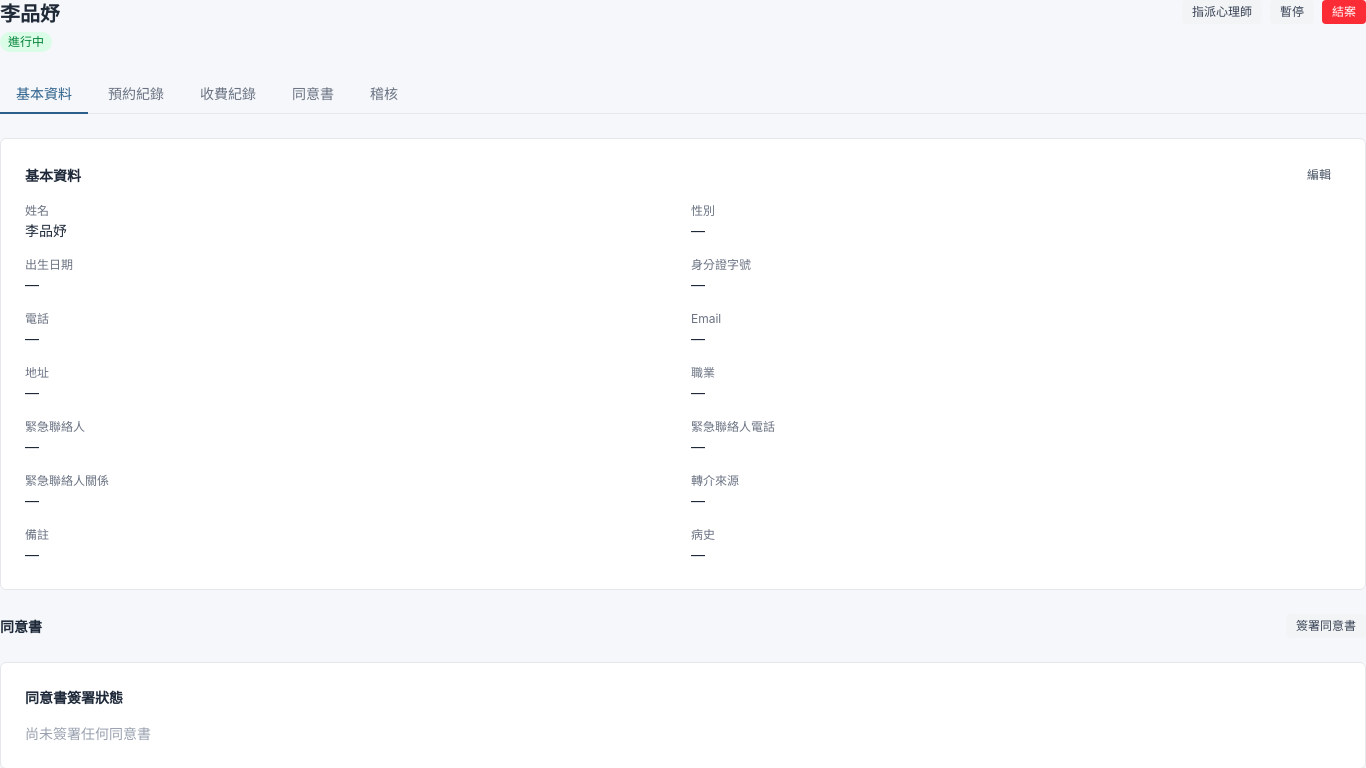
ClientDetailView 預約紀錄 › 按「查看」開啟預約詳情，只供檢視（狀態變更在預約管理）
What coordinates should you click on to do the following:
click the tab "預約紀錄"
I would click on:
 (136, 95)
Its box is [92, 76, 180, 114].
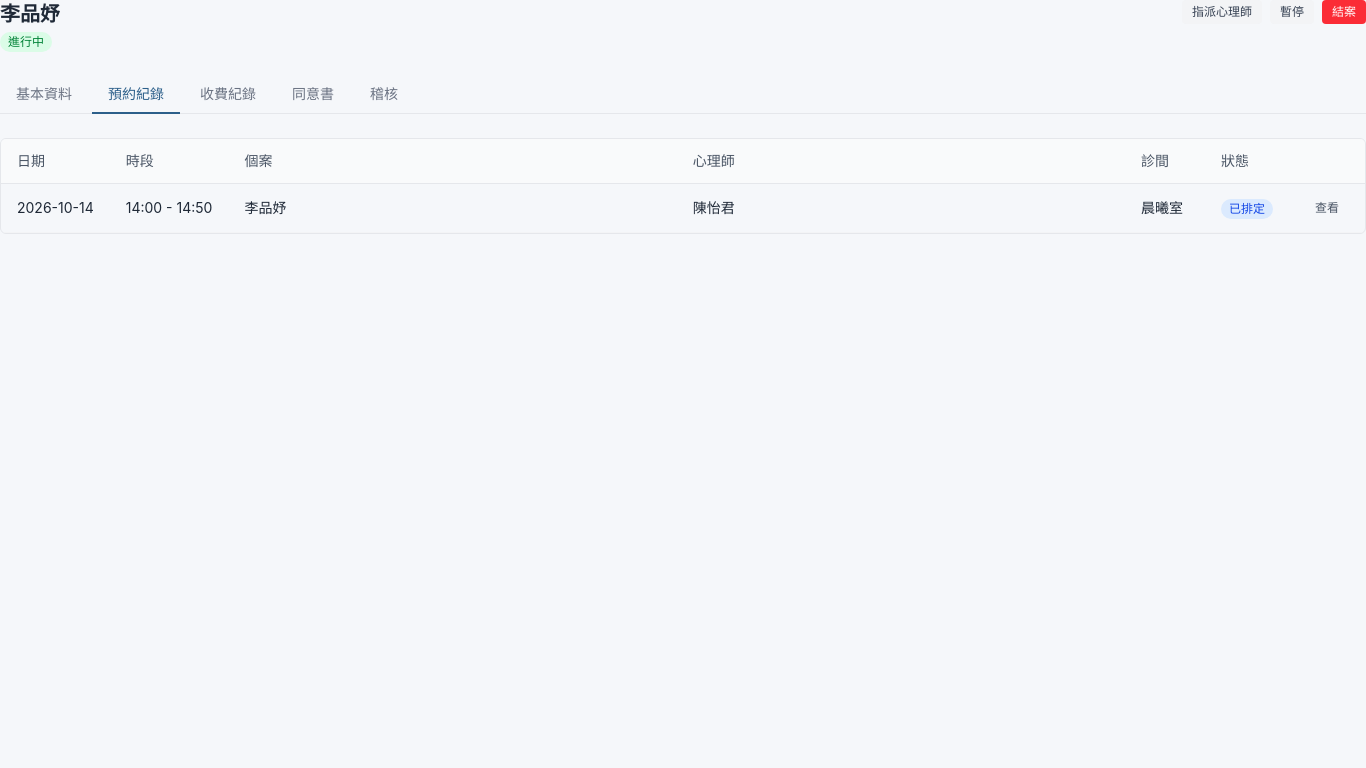
What coordinates should you click on to do the following:
click the button "查看"
I would click on:
 (1327, 208)
Its box is [1305, 196, 1349, 220].
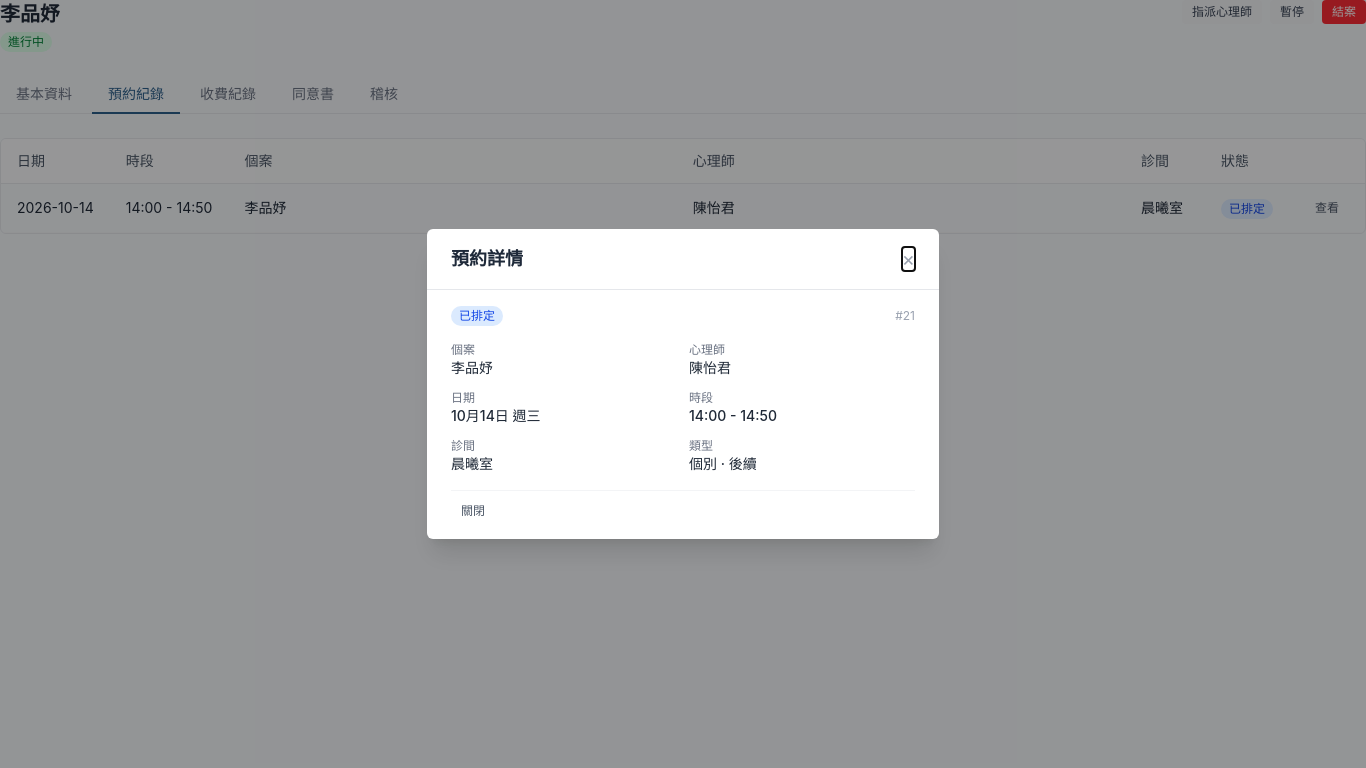
Check: the text "晨曦室" is shown, box [1125, 184, 1205, 232]
Check: the text "#21" is shown, box [895, 308, 915, 324]
